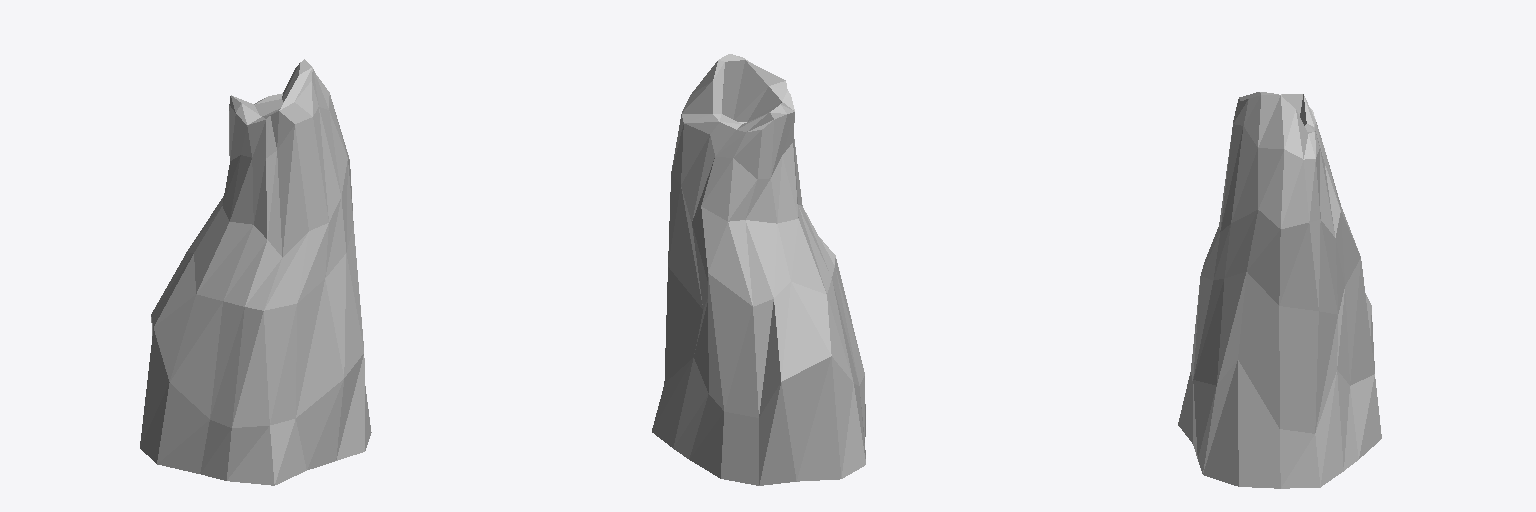
File: spawnpoint.obj
3 views of the same model, side by side, from view 1: azimuth 30°, elevation 25°; view 2: azimuth 150°, elevation 25°; view 3: azimuth 270°, elevation 25° (orthographic).
Parts seen in each view (by area): view 1: pCube1; view 2: pCube1; view 3: pCube1.
Boxes of the visible parts, <box> form: pCube1: <box>140,59,371,485</box>; pCube1: <box>652,54,865,485</box>; pCube1: <box>1178,92,1381,488</box>.
Bounding box in the file's own units: 10.04 × 17.93 × 8.98.